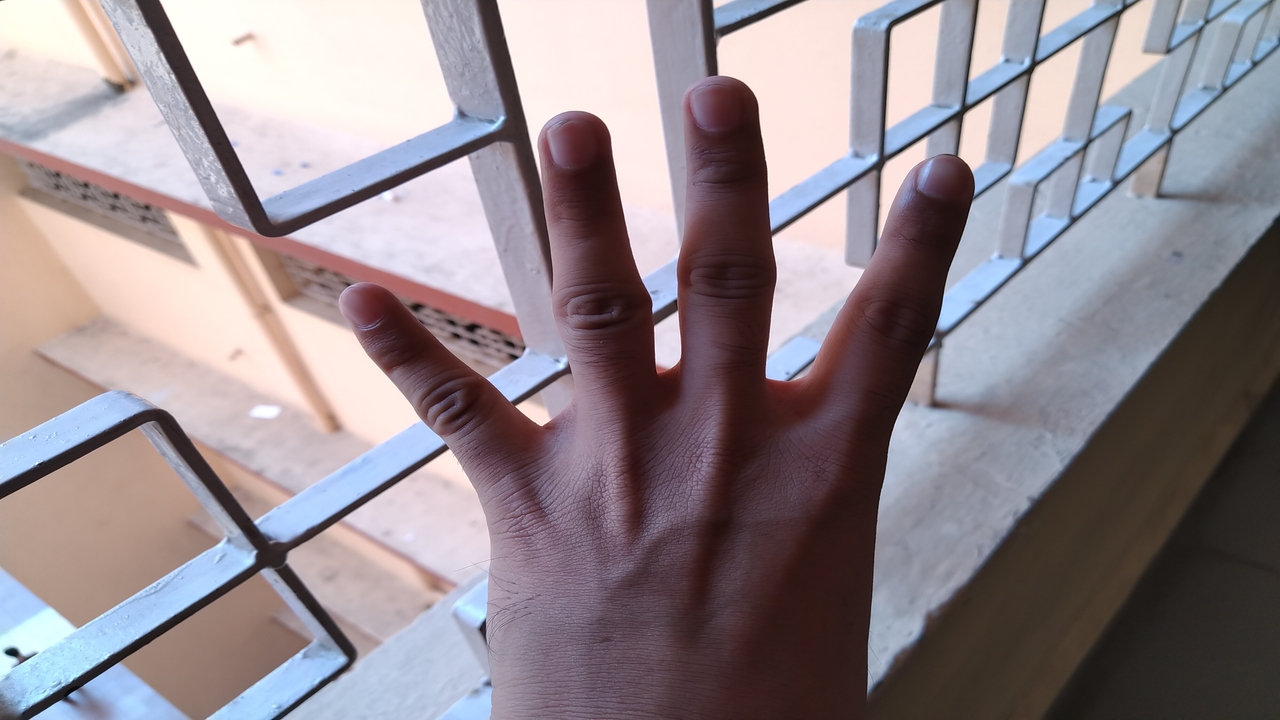fingertip: (678, 70, 764, 134), (530, 110, 616, 174), (910, 152, 980, 212), (334, 284, 396, 336)
